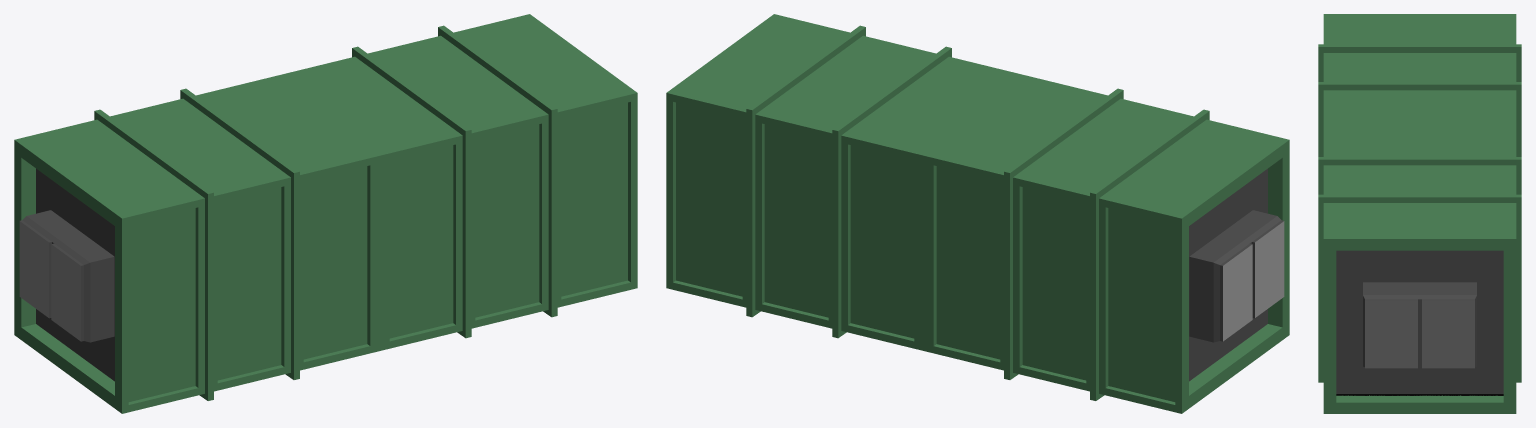
The model's file is shipping_container.glb.
3 views of the same model, side by side, from view 1: azimuth 30°, elevation 25°; view 2: azimuth 150°, elevation 25°; view 3: azimuth 270°, elevation 25° (orthographic). The views are drawn at different scales.
Visible parts, largest first — view 1: container; view 2: container; view 3: container, door.
Part boxes in pixels (box(x1,y1,x2,y2)): container: box(14, 14, 637, 413); container: box(666, 14, 1289, 413); container: box(1318, 14, 1521, 413); door: box(1336, 250, 1503, 395).
Bounding box in the file's own units: 20.94 × 7.6 × 7.48.
